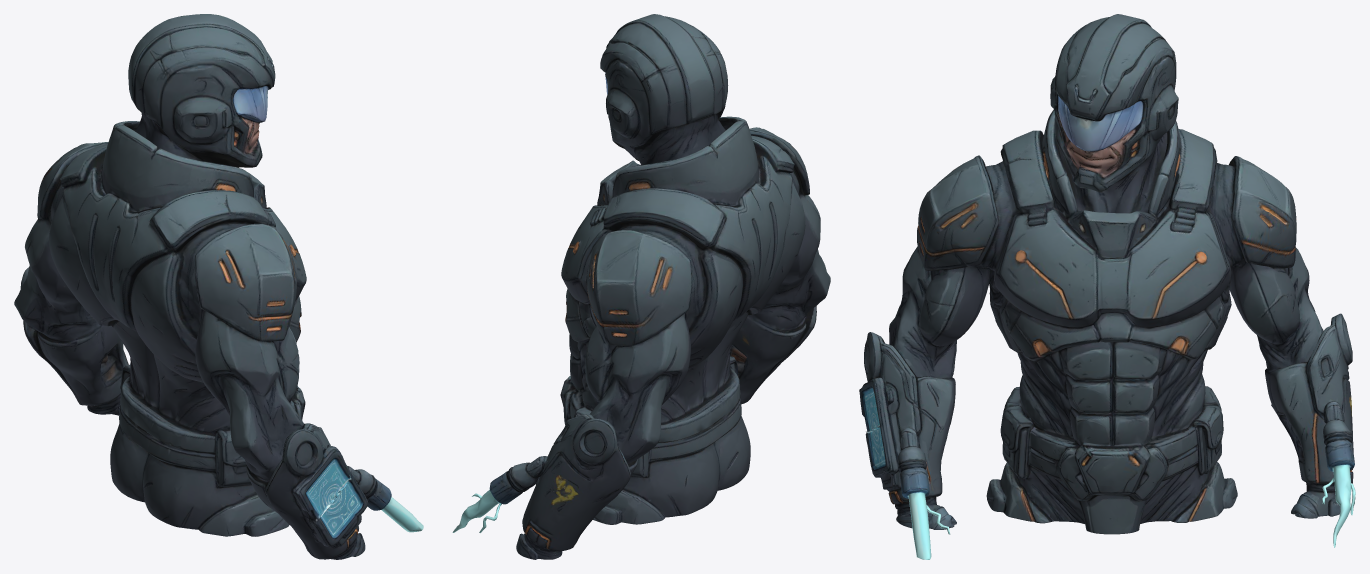
The model's file is ironclad.glb.
3 views of the same model, side by side, from view 1: azimuth 30°, elevation 25°; view 2: azimuth 150°, elevation 25°; view 3: azimuth 270°, elevation 25° (orthographic). The views are drawn at different scales.
Visible parts, largest first — view 1: tripo_node_6d10ee56-4147-4610-ae64-836ec4730369; view 2: tripo_node_6d10ee56-4147-4610-ae64-836ec4730369; view 3: tripo_node_6d10ee56-4147-4610-ae64-836ec4730369.
Boxes of the visible parts, x1=… form: tripo_node_6d10ee56-4147-4610-ae64-836ec4730369: x1=14, y1=14, x2=423, y2=559; tripo_node_6d10ee56-4147-4610-ae64-836ec4730369: x1=452, y1=14, x2=830, y2=559; tripo_node_6d10ee56-4147-4610-ae64-836ec4730369: x1=859, y1=14, x2=1355, y2=559.
Size of the model in its own units: 0.5271 by 1 by 0.9488.
1 material, 1 textured.
